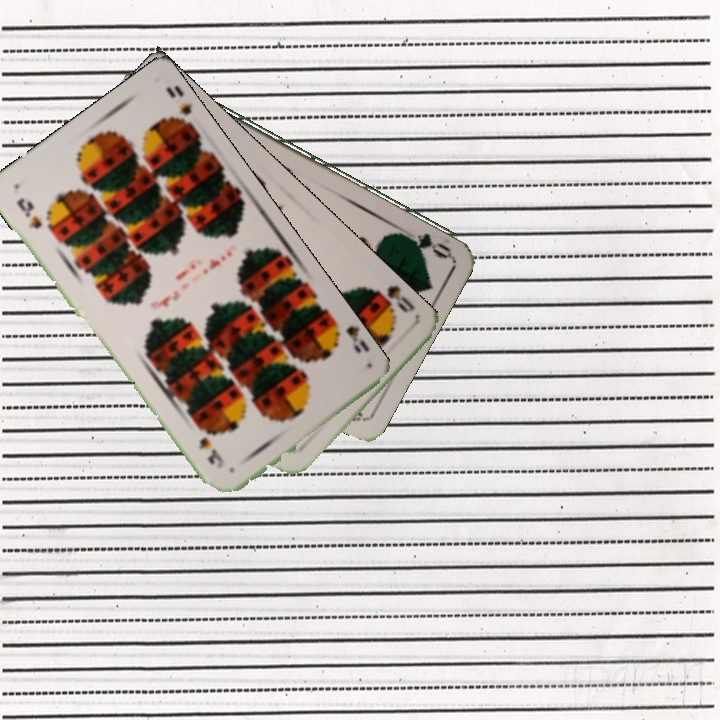GO: (395, 228, 454, 261)
S9: (330, 317, 364, 356), (12, 193, 45, 231)
SO: (363, 281, 418, 316)
